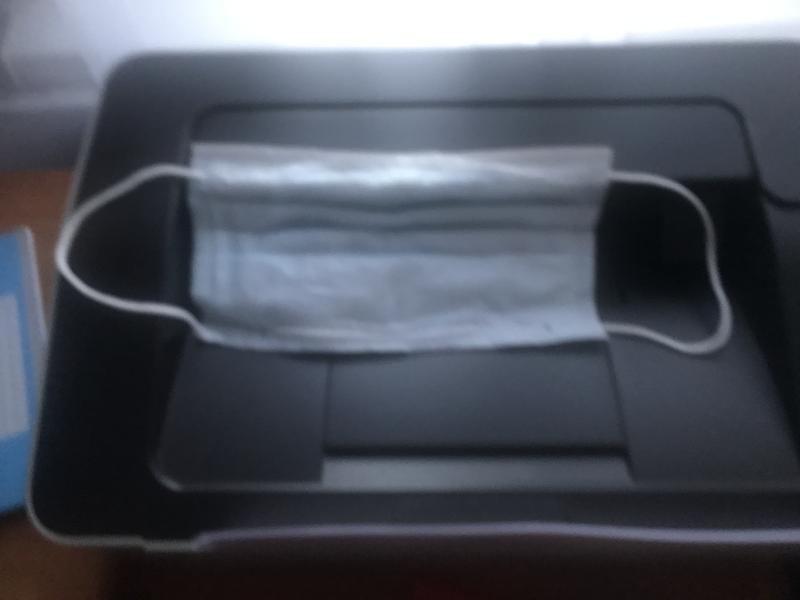medical_mask: (53, 142, 736, 355)
